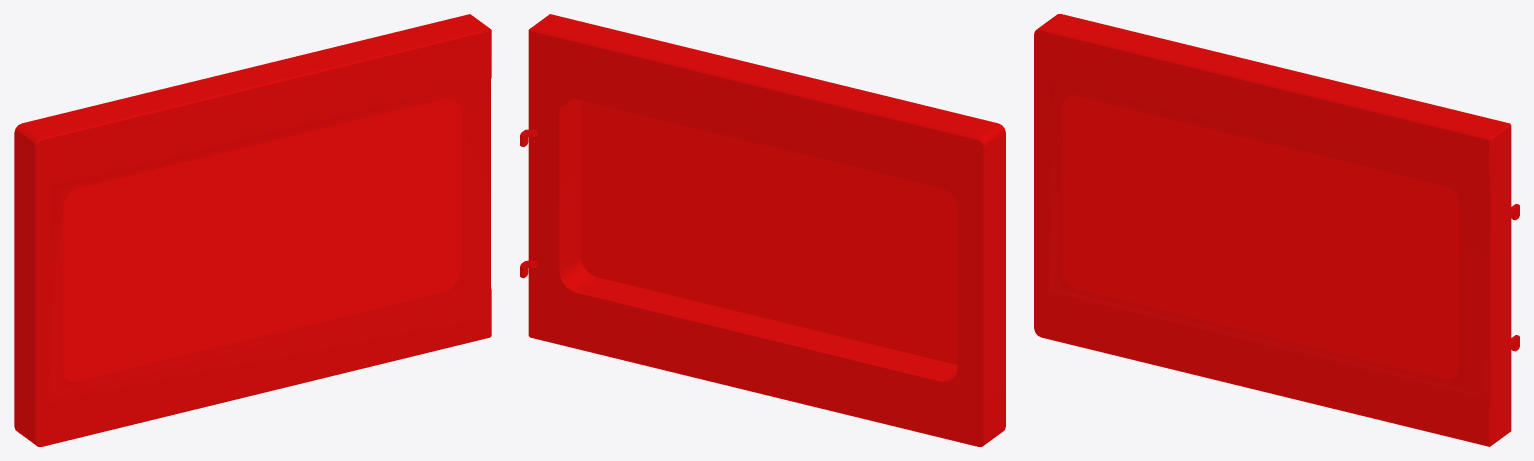
The model's file is SM_Microwave_01_door.glb.
3 views of the same model, side by side, from view 1: azimuth 30°, elevation 25°; view 2: azimuth 150°, elevation 25°; view 3: azimuth 330°, elevation 25° (orthographic).
Parts seen in each view (by area): view 1: SM_Microwave_01_door_LOD0; view 2: SM_Microwave_01_door_LOD0; view 3: SM_Microwave_01_door_LOD0.
Part boxes in pixels (x1=…): SM_Microwave_01_door_LOD0: x1=14, y1=14, x2=491, y2=446; SM_Microwave_01_door_LOD0: x1=520, y1=14, x2=1005, y2=446; SM_Microwave_01_door_LOD0: x1=1034, y1=14, x2=1519, y2=446.
Size of what is drawn, in the model's own units: 0.502 by 0.3241 by 0.0684.
